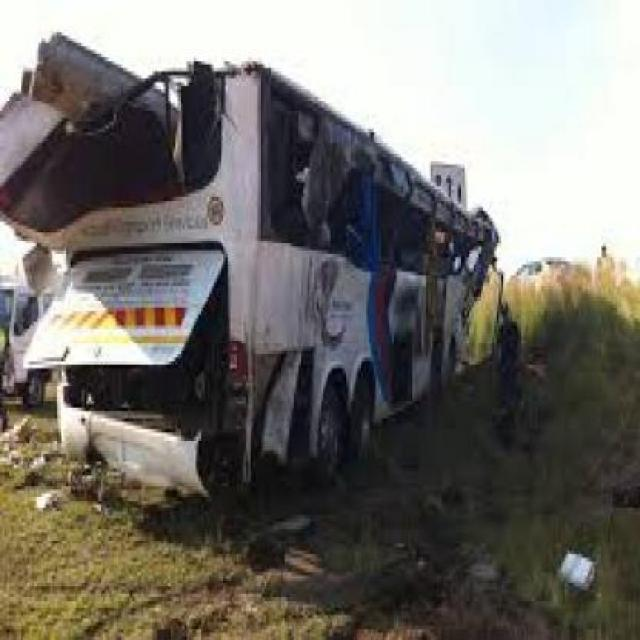accident: (3, 19, 522, 539)
